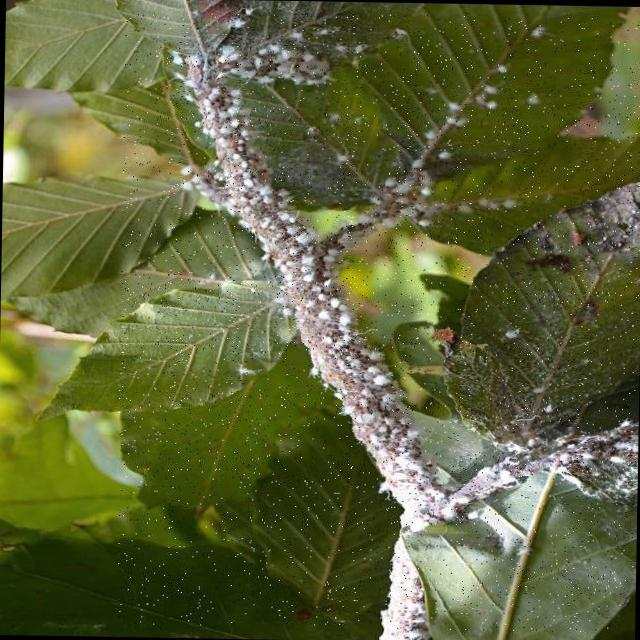aphid: (114, 8, 640, 631)
